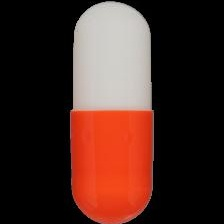42291-192: (0, 0, 224, 224)
